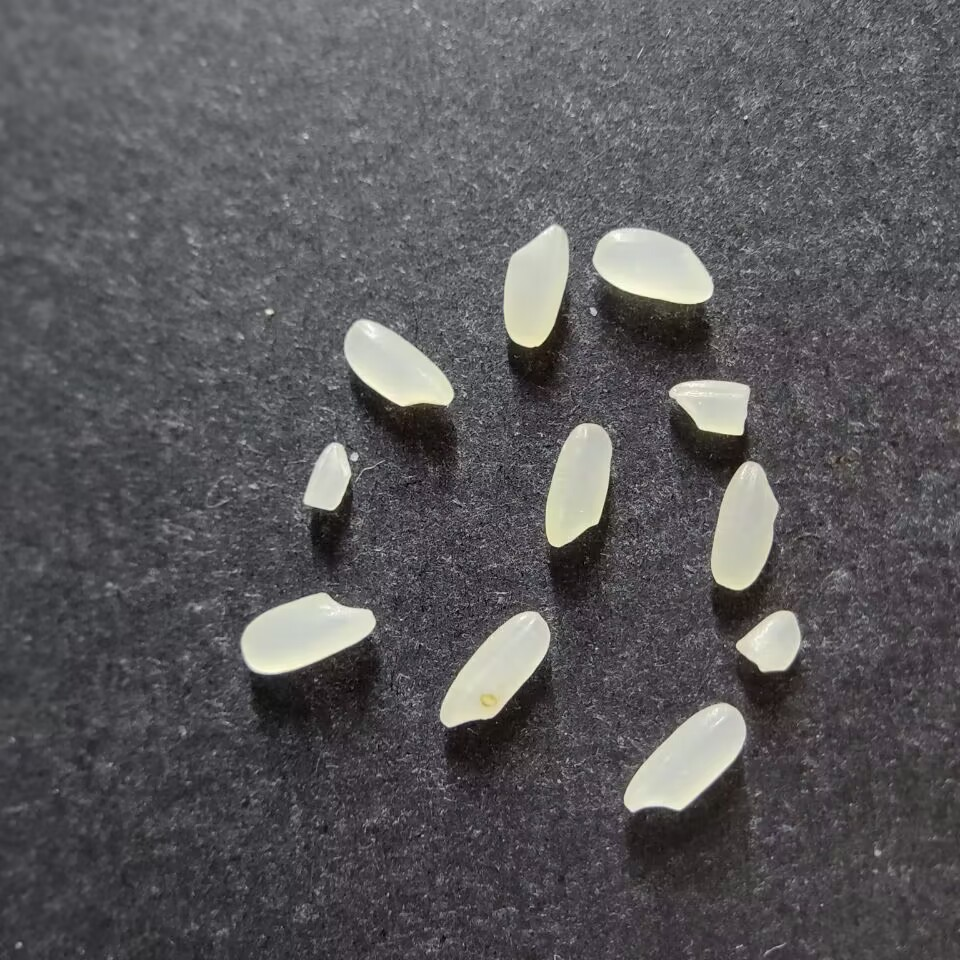broken: (667, 379, 751, 435), (734, 609, 801, 673), (302, 441, 351, 511)
rice: (623, 702, 747, 812), (438, 610, 551, 728), (239, 591, 376, 675), (342, 318, 456, 407), (591, 227, 714, 304), (709, 460, 779, 591), (544, 422, 613, 547), (502, 224, 570, 347)
